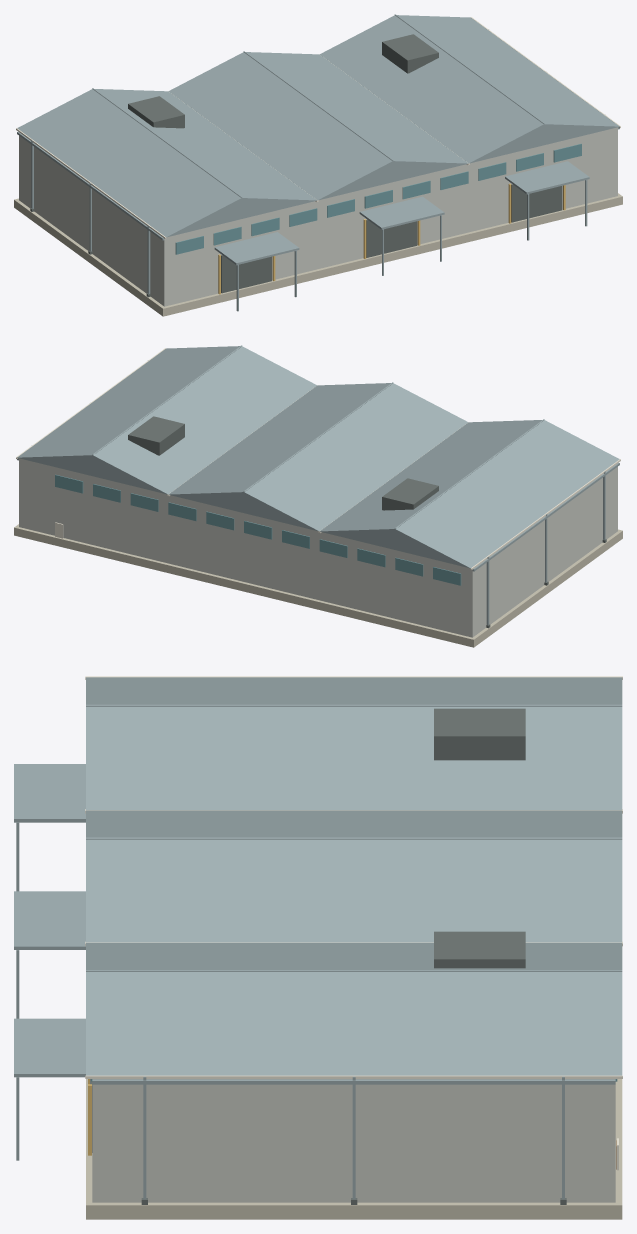
3 views of the same model, one above another, from view 1: azimuth 30°, elevation 25°; view 2: azimuth 150°, elevation 25°; view 3: azimuth 270°, elevation 25° (orthographic). The views are drawn at different scales.
Bounding box in the file's own units: 73 × 15.5 × 46.55.
